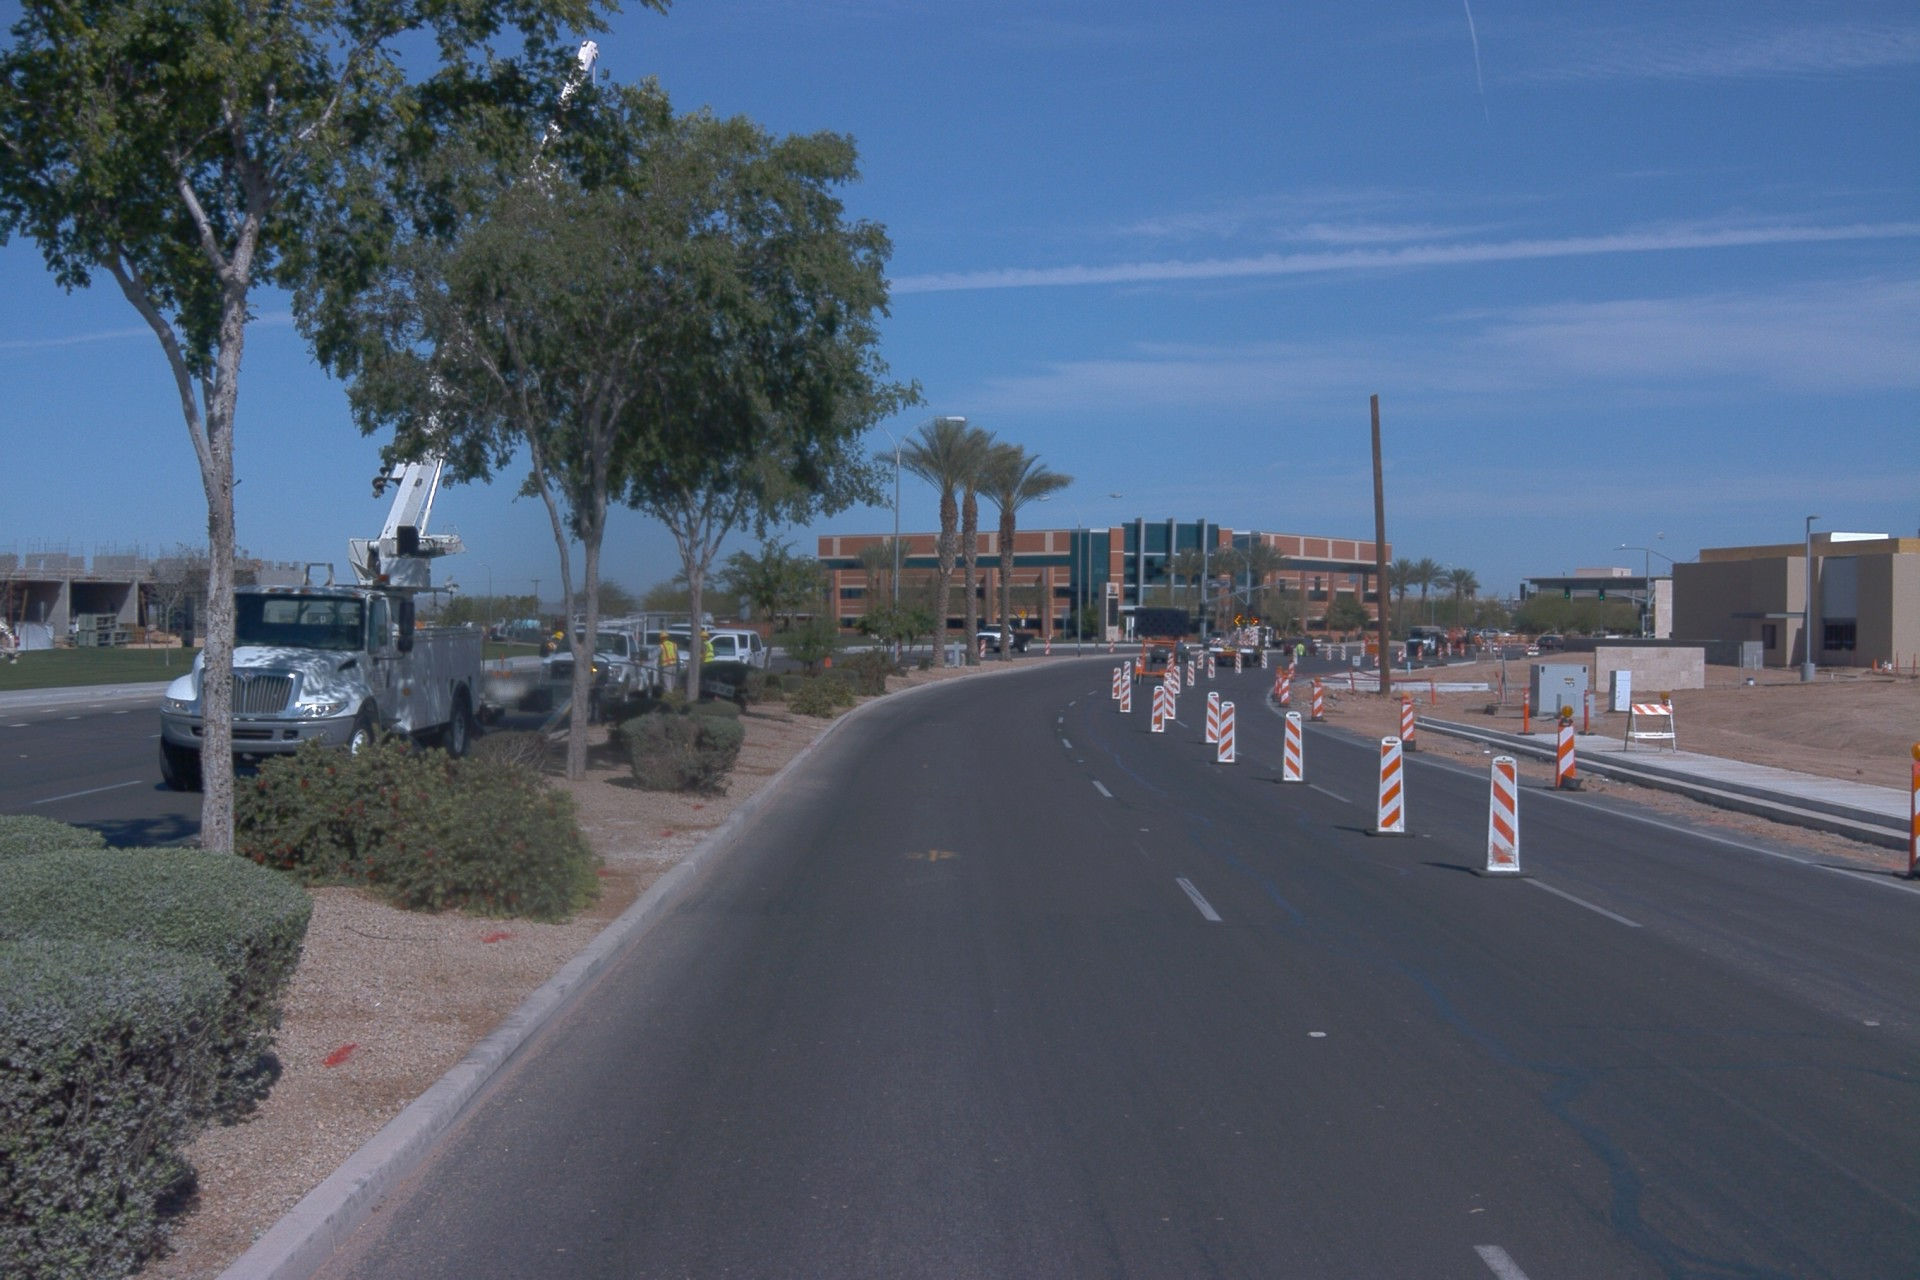TYPE_PEDESTRIAN: (639, 630, 682, 695), (699, 631, 717, 664), (1296, 638, 1307, 669)
TYPE_VEHICLE: (149, 33, 606, 802), (482, 621, 760, 754), (536, 622, 669, 714), (514, 603, 632, 679), (1126, 597, 1199, 691), (635, 629, 709, 705), (1206, 614, 1280, 670), (705, 623, 773, 677), (968, 612, 1038, 658), (1402, 624, 1494, 657), (1250, 624, 1322, 652), (1284, 631, 1325, 662), (1150, 641, 1193, 666), (1202, 632, 1232, 652), (668, 622, 715, 634), (64, 617, 80, 636)
